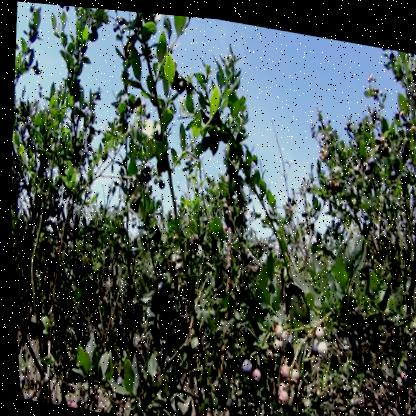intermediate: (273, 379, 287, 400), (277, 359, 290, 377), (249, 363, 261, 381)
mature: (238, 353, 251, 373)
young: (313, 333, 328, 354), (285, 362, 300, 379), (311, 317, 324, 336), (269, 319, 283, 336), (270, 335, 281, 349)
